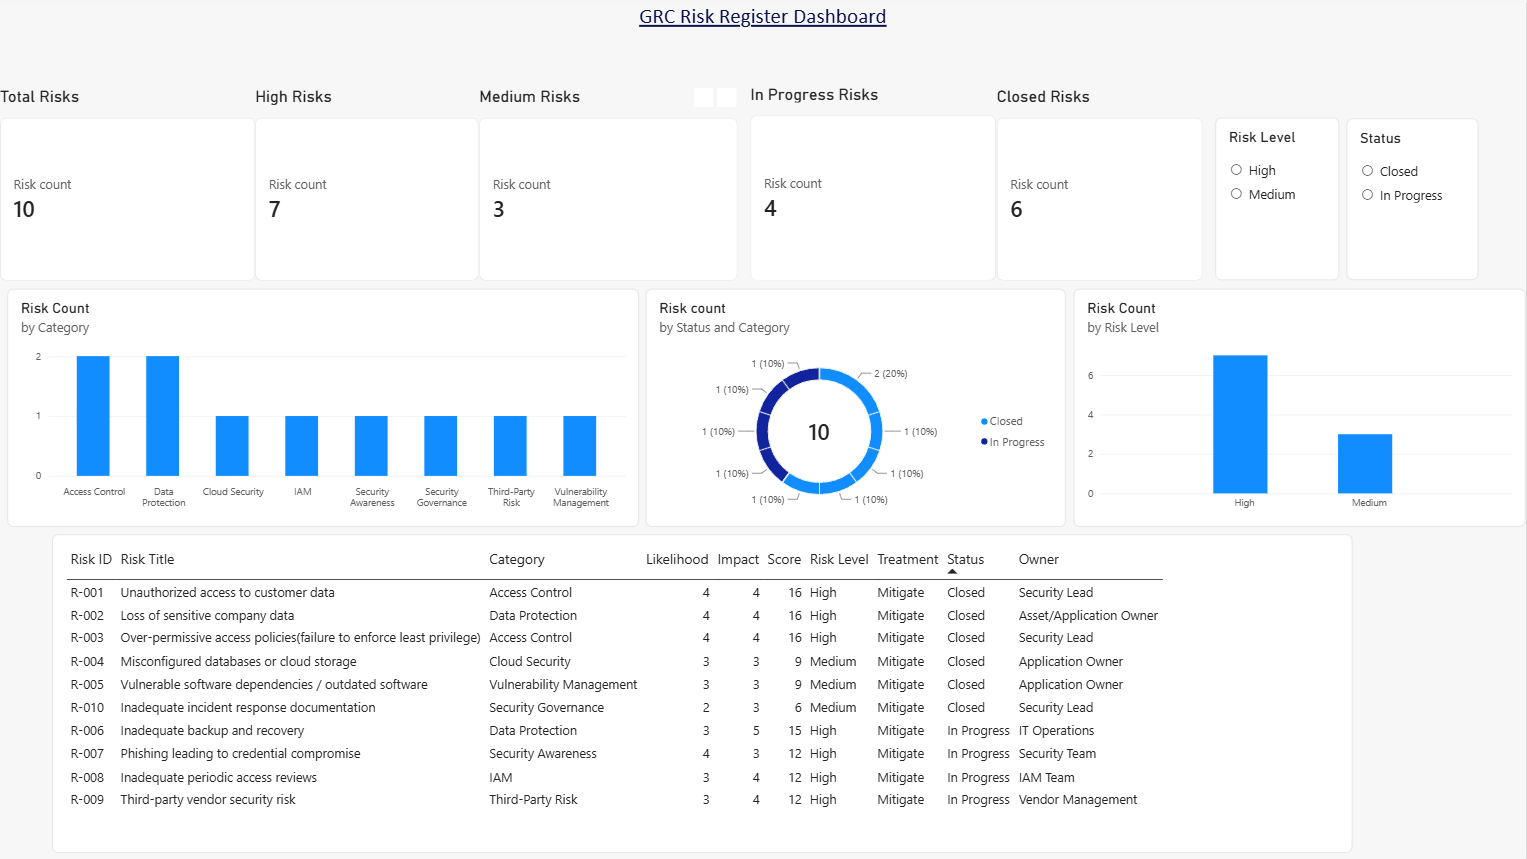

The dashboard page shown, as its layout file describes it:
{"tool":"powerbi","page":{"name":"Page 1","canvas":[1920,1080],"ordinal":0},"visuals":[{"type":"cardVisual","title":"Total Risks","fields":{"Data":["CountNonNull(Sheet1.Score)"]},"box":[0,105.9,321,243.5],"z":0},{"type":"cardVisual","title":"High Risks","fields":{"Data":["CountNonNull(Sheet1.Score)"]},"box":[321,105.9,281.7,243.5],"z":1000},{"type":"cardVisual","title":"Medium Risks","fields":{"Data":["CountNonNull(Sheet1.Score)"]},"box":[602.8,105.9,325.4,243.5],"z":2000},{"type":"cardVisual","title":"In Progress Risks","fields":{"Data":["CountNonNull(Sheet1.Score)"]},"box":[944.6,102.6,309,246.8],"z":3000},{"type":"cardVisual","title":"Closed Risks","fields":{"Data":["CountNonNull(Sheet1.Score)"]},"box":[1253.6,105.9,259.9,243.5],"z":4000},{"type":"clusteredColumnChart","fields":{"Category":["Sheet1.Category"],"Y":["CountNonNull(Sheet1.Score)"]},"box":[8.7,359.3,795,300.3],"z":5000},{"type":"donutChart","fields":{"Category":["Sheet1.Status"],"Series":["Sheet1.Category"],"Y":["CountNonNull(Sheet1.Score)"]},"box":[812.4,359.3,528.5,300.3],"z":6000},{"type":"clusteredColumnChart","fields":{"Category":["Sheet1.Risk Level"],"Y":["CountNonNull(Sheet1.Score)"]},"box":[1350.8,359.3,568.9,300.3],"z":7000},{"type":"tableEx","fields":{"Values":["Sheet1.Risk ID","Sheet1.Risk Title","Sheet1.Category","Sheet1.Likelihood","Sheet1.Impact","Sheet1.Score","Sheet1.Risk Level","Sheet1.Treatment","Sheet1.Status","Sheet1.Owner"]},"box":[65.5,668.3,1635.8,401.9],"z":8000},{"type":"textbox","title":"GRC Risk Register Dashboard","box":[803.7,0,313.4,155.1],"z":9000},{"type":"listSlicer","fields":{"Values":["Sheet1.Risk Level"]},"box":[1528.8,144.1,156.2,205.3],"z":9001},{"type":"listSlicer","fields":{"Values":["Sheet1.Status"]},"box":[1693.7,145.2,166,204.2],"z":9002}]}

Visuals, with their boxes in screenshot pixels (x1, y1, x2, y2), scaled from the page's 1920x1080 canvas onto the 1527x859 screenshot:
"Total Risks" cardVisual: crop(0, 84, 255, 278)
"High Risks" cardVisual: crop(255, 84, 479, 278)
"Medium Risks" cardVisual: crop(479, 84, 738, 278)
"In Progress Risks" cardVisual: crop(751, 82, 997, 278)
"Closed Risks" cardVisual: crop(997, 84, 1204, 278)
clusteredColumnChart - Sheet1.Category x CountNonNull(Sheet1.Score): crop(7, 286, 639, 525)
donutChart - Sheet1.Status x Sheet1.Category: crop(646, 286, 1066, 525)
clusteredColumnChart - Sheet1.Risk Level x CountNonNull(Sheet1.Score): crop(1074, 286, 1526, 525)
tableEx - Sheet1.Risk ID x Sheet1.Risk Title: crop(52, 532, 1353, 851)
"GRC Risk Register Dashboard" textbox: crop(639, 0, 888, 123)
listSlicer - Sheet1.Risk Level: crop(1216, 115, 1340, 278)
listSlicer - Sheet1.Status: crop(1347, 115, 1479, 278)
